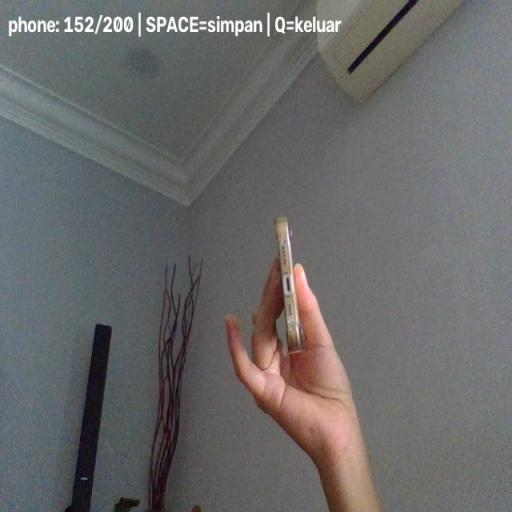Phone: (274, 217, 306, 354)
